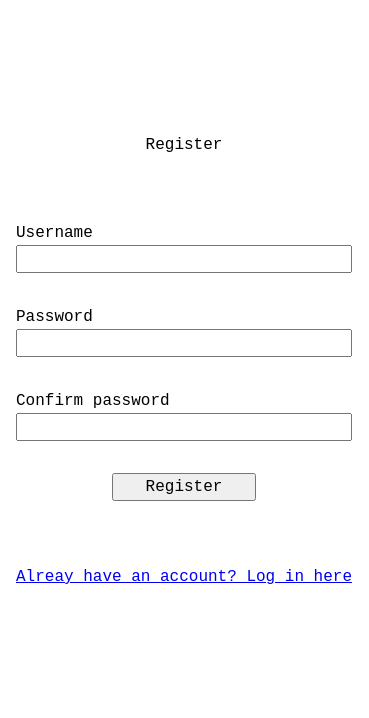
Register component › will not submit without all required fields
Click the button "Register" at (184, 487), box [112,473,256,501]
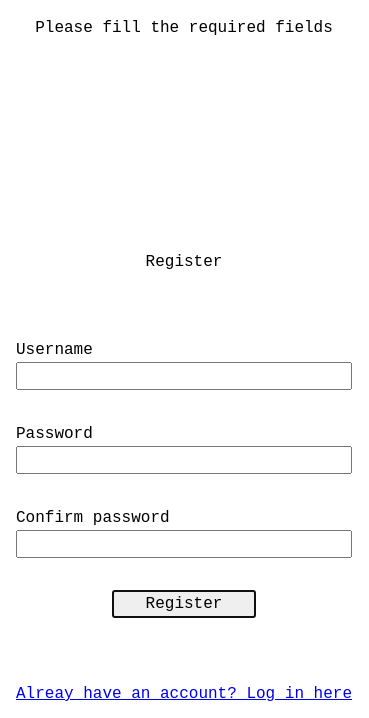
Expected: the text "Please fill the required fields" is shown, [35,16,333,40]
